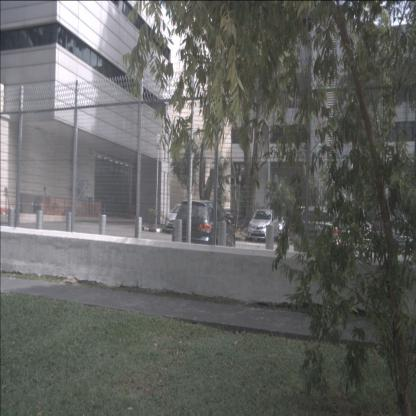vehicle-car: (172, 200, 235, 258), (293, 206, 341, 258), (164, 203, 200, 234), (248, 208, 280, 242), (221, 209, 243, 229), (271, 216, 286, 235)
